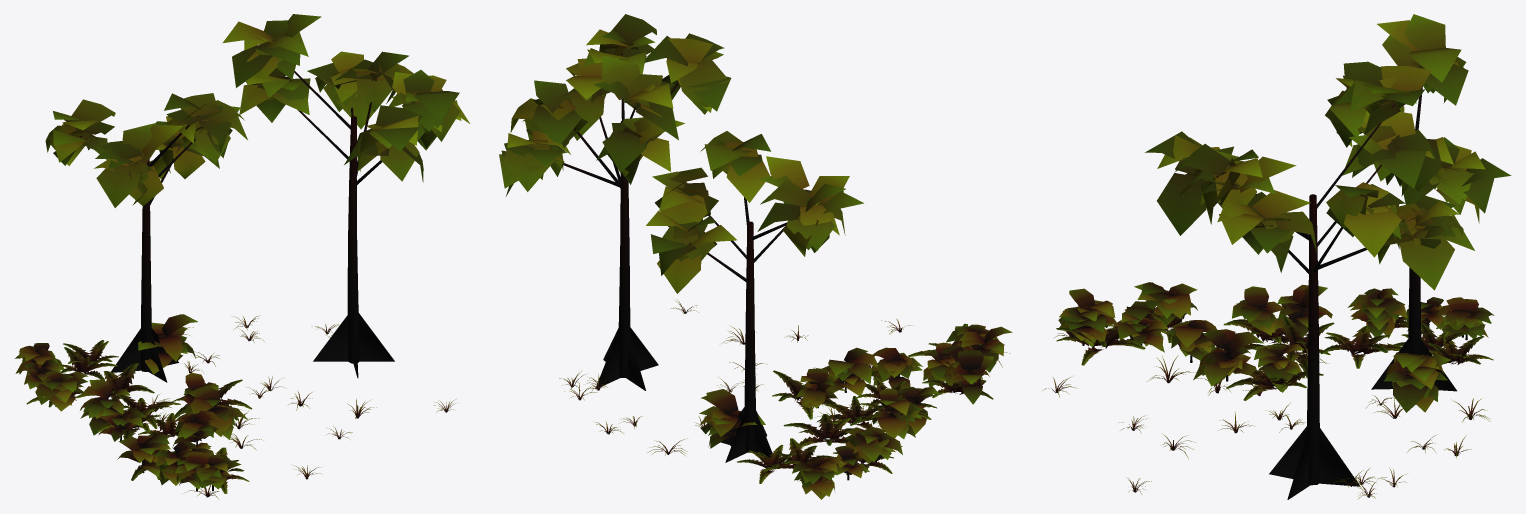
The model's file is patch_edge.glb.
3 views of the same model, side by side, from view 1: azimuth 30°, elevation 25°; view 2: azimuth 150°, elevation 25°; view 3: azimuth 270°, elevation 25° (orthographic). The views are drawn at different scales.
Parts seen in each view (by area): view 1: patch_edge; view 2: patch_edge; view 3: patch_edge.
Boxes of the visible parts, x1=… form: patch_edge: x1=15, y1=14, x2=469, y2=499; patch_edge: x1=499, y1=14, x2=1012, y2=499; patch_edge: x1=1042, y1=14, x2=1511, y2=499.
Size of the model in its own units: 14.01 by 11.89 by 12.92.
Materials: 1 (1 with a texture image).
